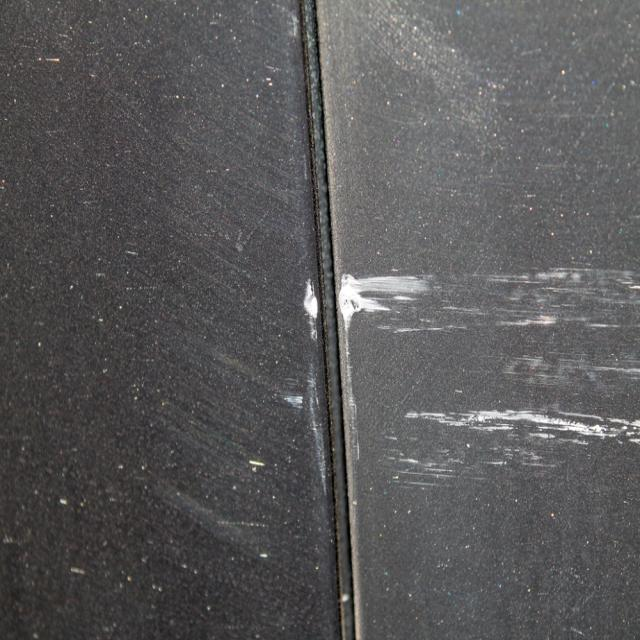scratch: (333, 264, 640, 491), (284, 273, 331, 503)
